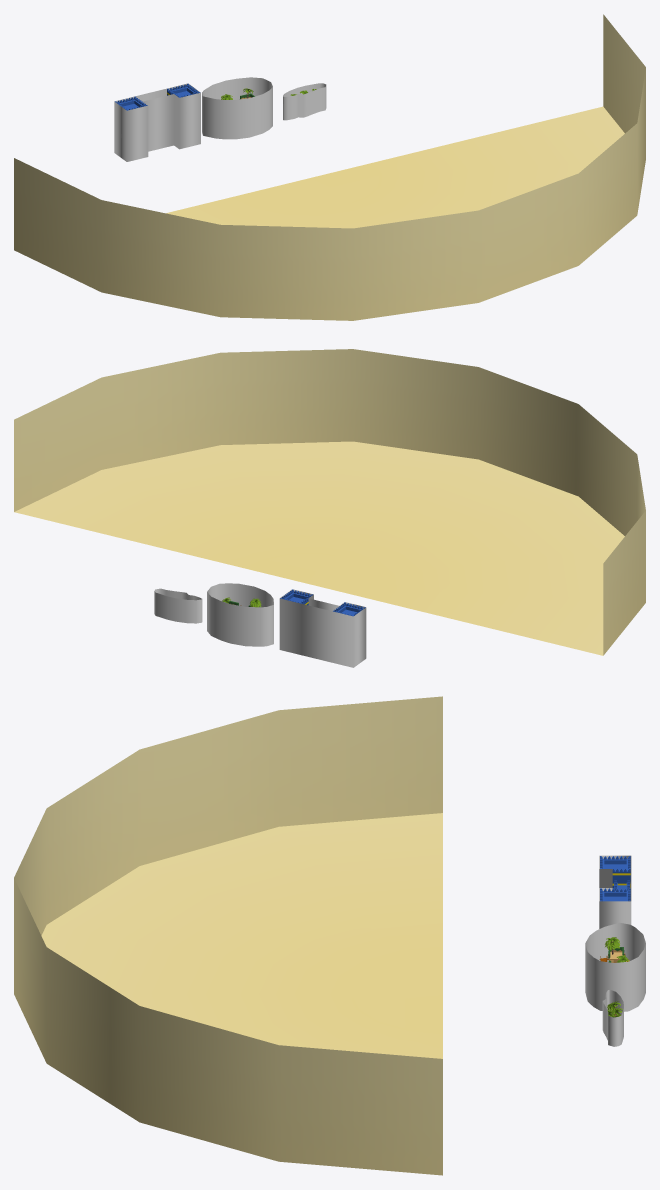
The model's file is assets_t5_a1.fbx.
3 views of the same model, one above another, from view 1: azimuth 30°, elevation 25°; view 2: azimuth 150°, elevation 25°; view 3: azimuth 270°, elevation 25° (orthographic). The views are drawn at different scales.
Parts seen in each view (by area): view 1: ground_t5_era1, godray_1, godray_2, godray_3, Assets1; view 2: ground_t5_era1, godray_1, godray_2, godray_3, Assets1; view 3: ground_t5_era1, godray_2, godray_1, Assets1, godray_3.
Part boxes in pixels (left/top/right/bottom): ground_t5_era1: left=14, top=14, right=645, bottom=320; godray_1: left=114, top=83, right=200, bottom=161; godray_2: left=202, top=77, right=272, bottom=139; godray_3: left=283, top=83, right=326, bottom=120; Assets1: left=115, top=83, right=200, bottom=110; ground_t5_era1: left=14, top=349, right=645, bottom=655; godray_1: left=279, top=589, right=366, bottom=667; godray_2: left=207, top=583, right=273, bottom=646; godray_3: left=154, top=588, right=202, bottom=623; Assets1: left=280, top=589, right=365, bottom=616; ground_t5_era1: left=14, top=696, right=442, bottom=1175; godray_2: left=585, top=922, right=645, bottom=1011; godray_1: left=599, top=855, right=631, bottom=928; Assets1: left=600, top=856, right=630, bottom=901; godray_3: left=602, top=990, right=623, bottom=1046.
Size of the model in its own units: 162 by 24.29 by 119.
